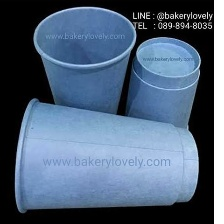paper_cup: (8, 93, 204, 216), (29, 2, 140, 130), (118, 31, 203, 144)
